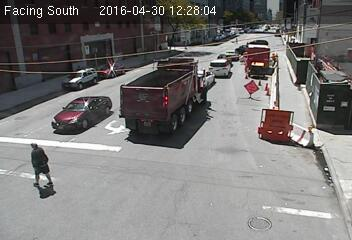neg: (135, 154, 182, 217), (61, 54, 94, 98), (188, 99, 218, 139), (248, 68, 278, 107), (166, 53, 192, 88), (270, 11, 294, 42), (216, 17, 237, 46), (276, 101, 295, 127)
pos: (8, 132, 65, 209)
